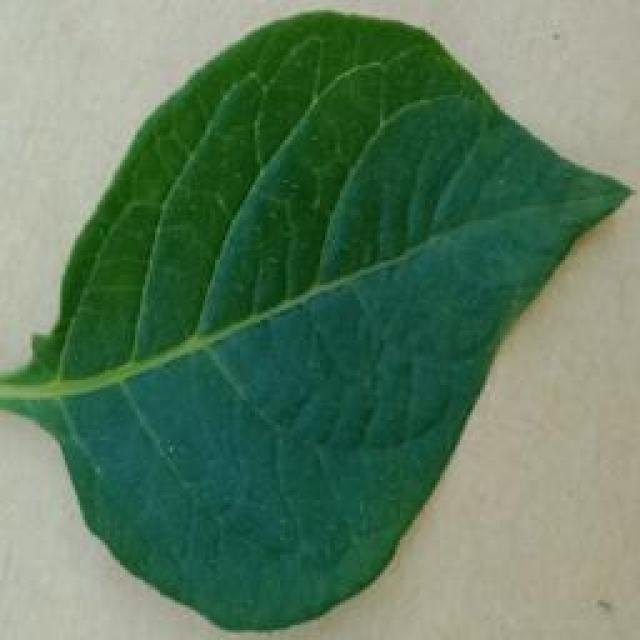Potato_Healthy: (2, 9, 626, 634)
